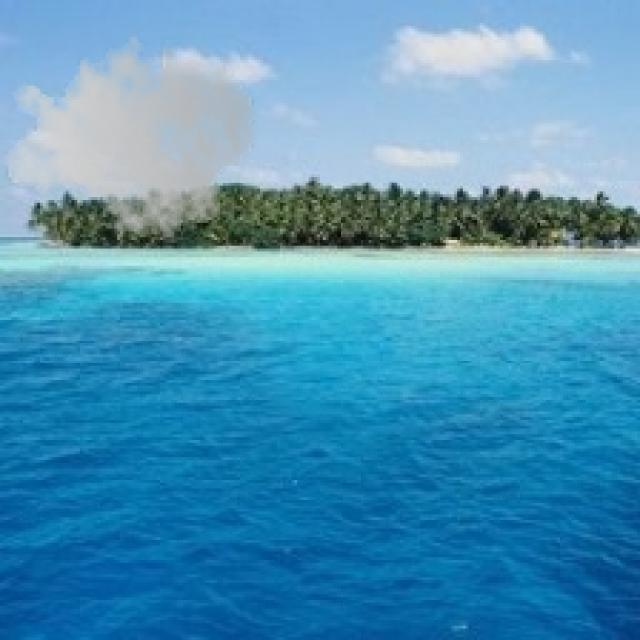Smoke: (2, 22, 258, 248)
